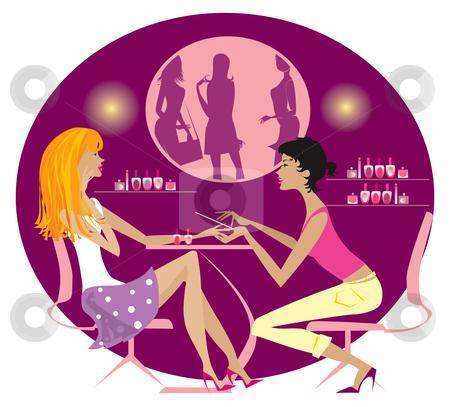person: (32, 127, 265, 388), (218, 128, 388, 391)
